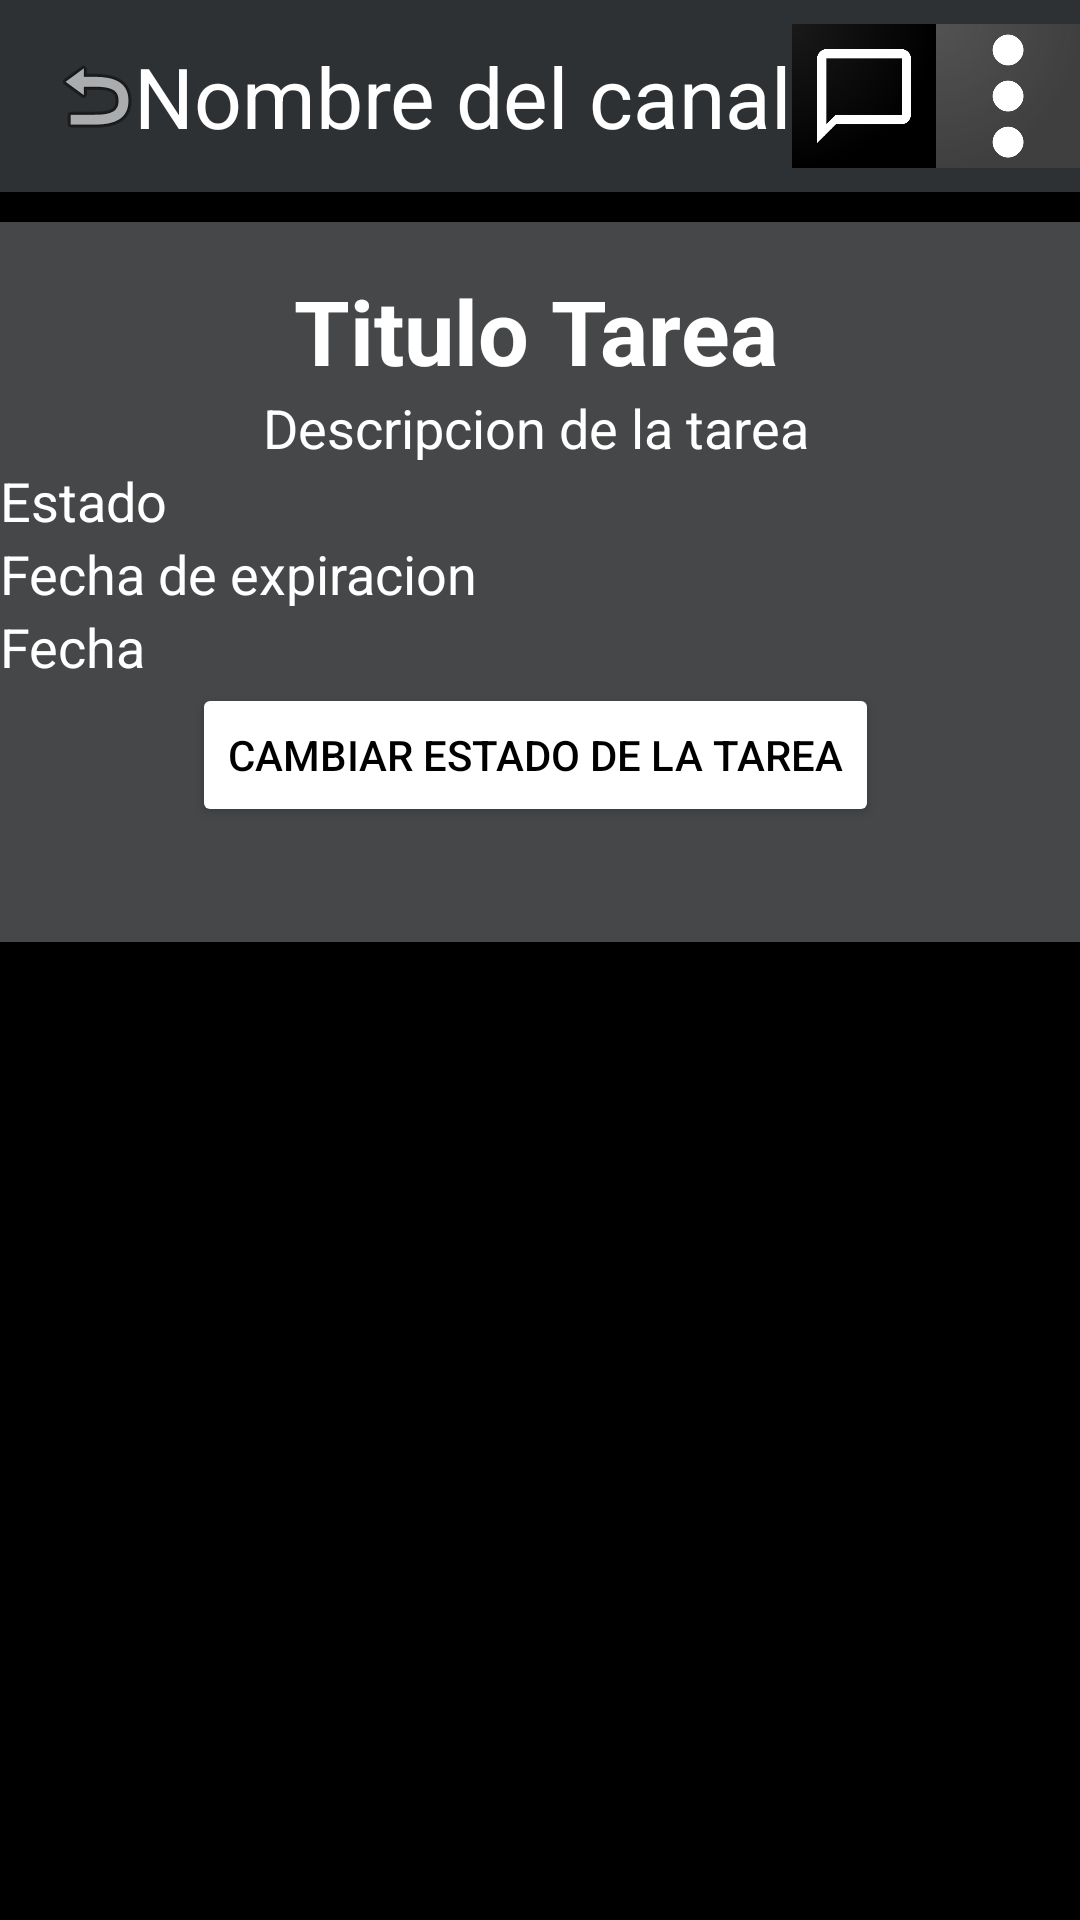

Point at icon controls on the screen. Image size 1080 x 1920, points as (x,y).
chat: (864,96)
revert: (97,97)
